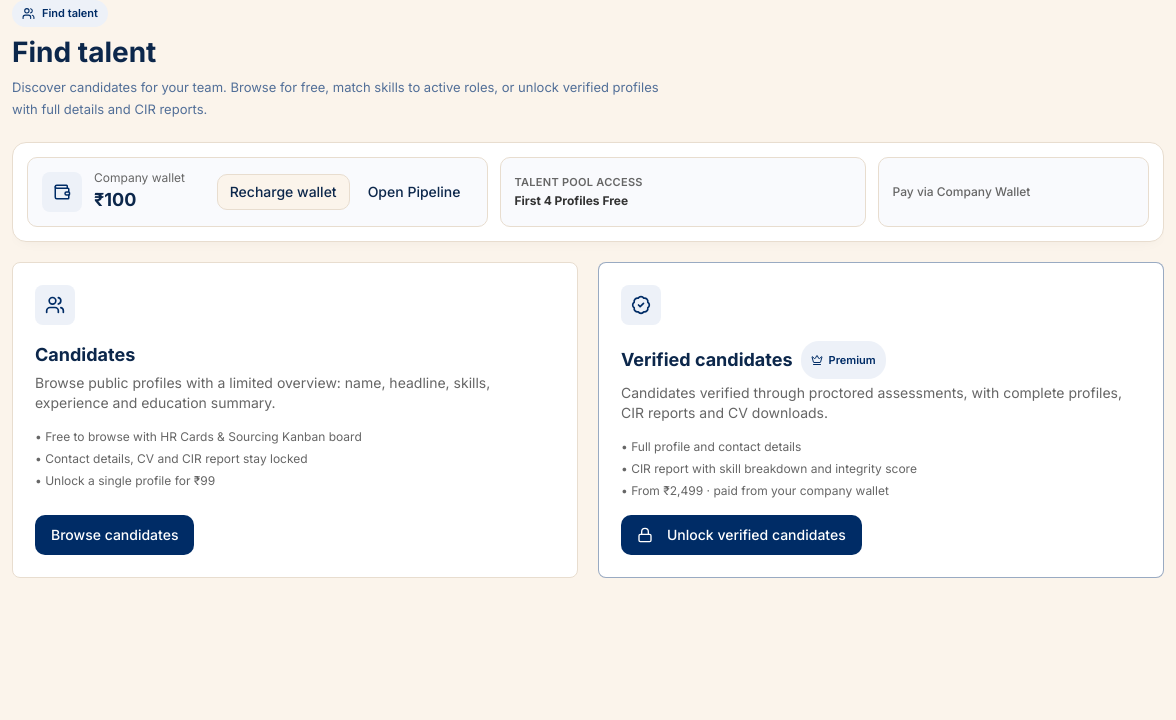
Test: Find Talent › locks verified candidates behind a wallet recharge when the balance is too low
Click the button "Unlock verified candidates". click: (741,535)
box: top-left (621, 515), bottom-right (862, 555)
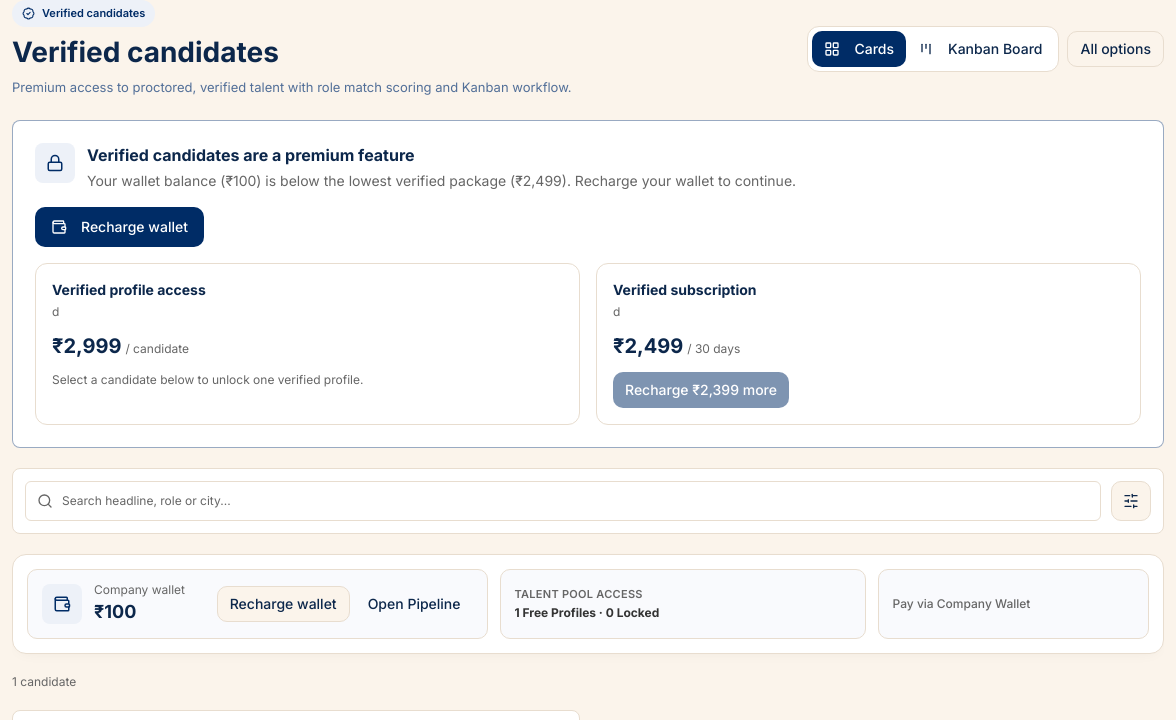
Check: the heading "Verified candidates are a premium feature" is shown, box top-left (87, 145), bottom-right (415, 165)
Check: the text "below the lowest verified package" is shown, box top-left (87, 172), bottom-right (796, 189)
Check: the button "Recharge ₹2,399 more" is disabled, box top-left (613, 372), bottom-right (789, 408)
